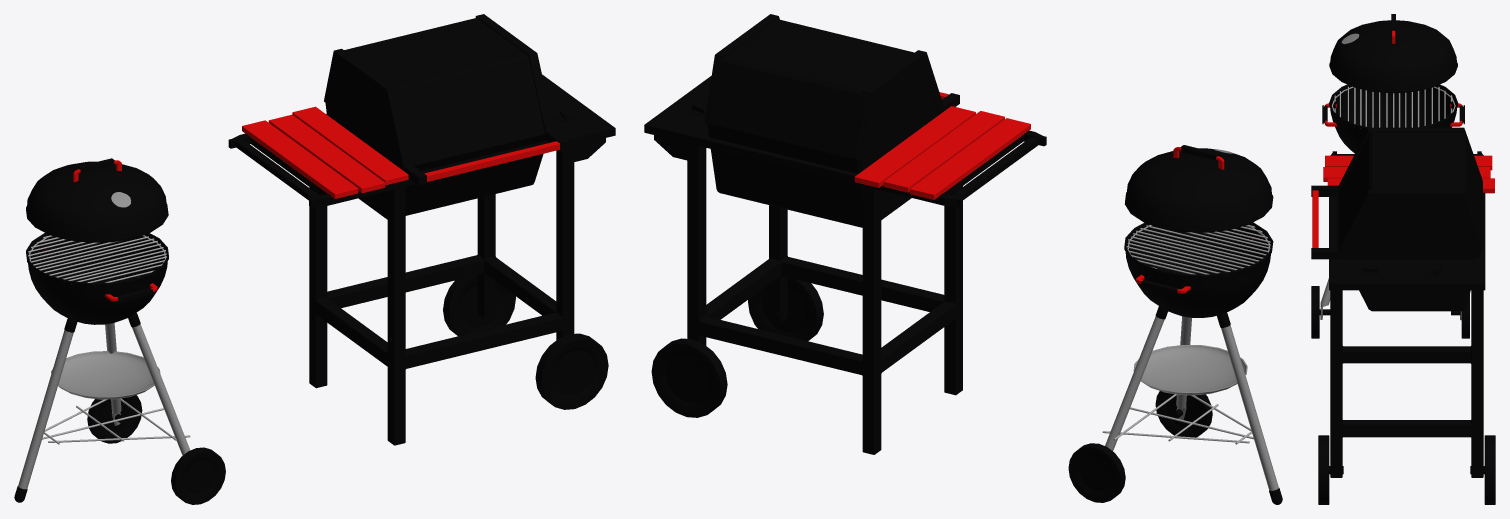
File: BBQ.fbx
The picture shows the model from 3 angles, left to right: view 1: azimuth 30°, elevation 25°; view 2: azimuth 150°, elevation 25°; view 3: azimuth 270°, elevation 25°; orthographic projection. The views are drawn at different scales.
Visible parts, largest first — view 1: pCube17, pCube9, Lid, polySurface1, pCube11, pCube10, pCube12, pCylinder40, polySurface7, pCube20, pCylinder41, pCube24 (+5 smaller); view 2: pCube17, pCube9, Lid, pCube11, polySurface1, pCube12, pCylinder41, polySurface7, pCube10, pCube20, pCylinder40, pCube24 (+5 smaller); view 3: pCube9, pCube17, Lid, pCube12, polySurface1, pCube10, pCube11, pCylinder40, pCylinder41, pCylinder8, pCube20, pCube24 (+2 smaller).
Part boxes in pixels (box(x1,y1,x2,y2)): pCube17: box(309, 146, 574, 445); pCube9: box(329, 18, 544, 165); Lid: box(26, 161, 168, 242); polySurface1: box(26, 233, 168, 324); pCube11: box(325, 103, 545, 219); pCube10: box(324, 14, 568, 185); pCube12: box(228, 74, 615, 207); pCylinder40: box(535, 333, 608, 409); polySurface7: box(51, 351, 160, 399); pCube20: box(242, 120, 358, 198); pCylinder41: box(443, 275, 515, 336); pCube24: box(268, 114, 385, 193); pCube17: box(687, 143, 962, 454); pCube9: box(707, 19, 938, 159); Lid: box(1125, 148, 1273, 232); pCube11: box(707, 112, 938, 227); polySurface1: box(1124, 222, 1273, 317); pCube12: box(644, 76, 1046, 207); pCylinder41: box(651, 338, 727, 417); polySurface7: box(1133, 345, 1247, 395); pCube10: box(704, 14, 959, 160); pCube20: box(910, 118, 1030, 199); pCylinder40: box(748, 277, 823, 340); pCube24: box(883, 111, 1004, 192); pCube9: box(1339, 132, 1482, 253); pCube17: box(1330, 197, 1483, 477); Lid: box(1329, 20, 1457, 93); pCube12: box(1329, 151, 1485, 290); polySurface1: box(1329, 84, 1458, 153); pCube10: box(1311, 127, 1482, 259); pCube11: box(1344, 181, 1482, 311); pCylinder40: box(1318, 435, 1343, 504); pCylinder41: box(1470, 435, 1495, 504); pCylinder8: box(1311, 286, 1330, 338); pCube20: box(1325, 155, 1492, 170); pCube24: box(1323, 167, 1490, 181).
Size of the model in its own units: 23.76 by 13.64 by 7.51.
